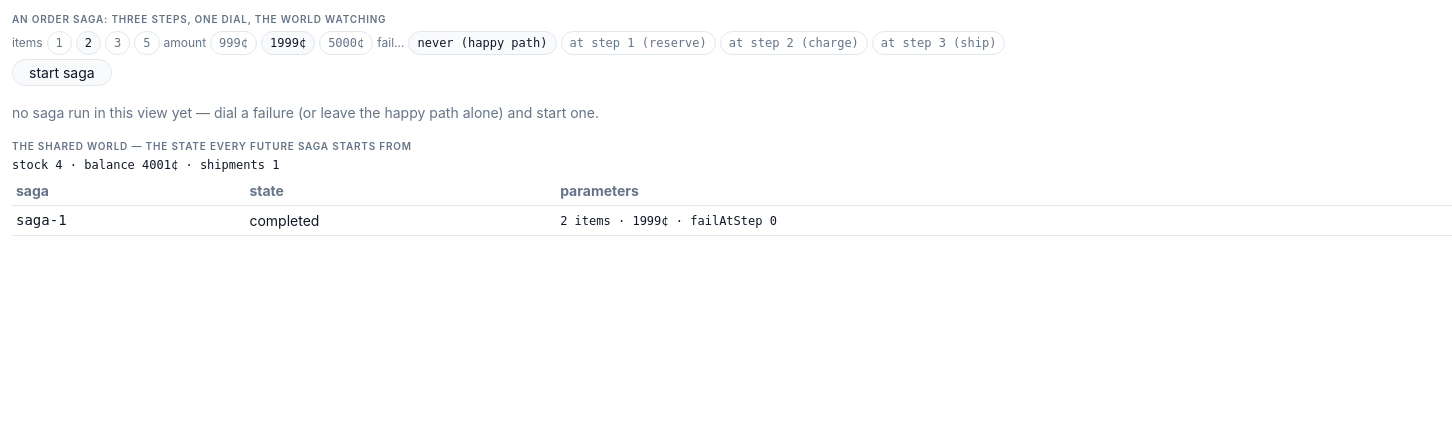
Test: SagaDemo › runs the happy path: three completed steps, no compensations, world moved
Expected: the text "stock 4 · balance 4001¢ · shipments 1" is shown, [12,158,279,172]
Click the button with test id "saga-run": (62, 72) [12,59,112,86]
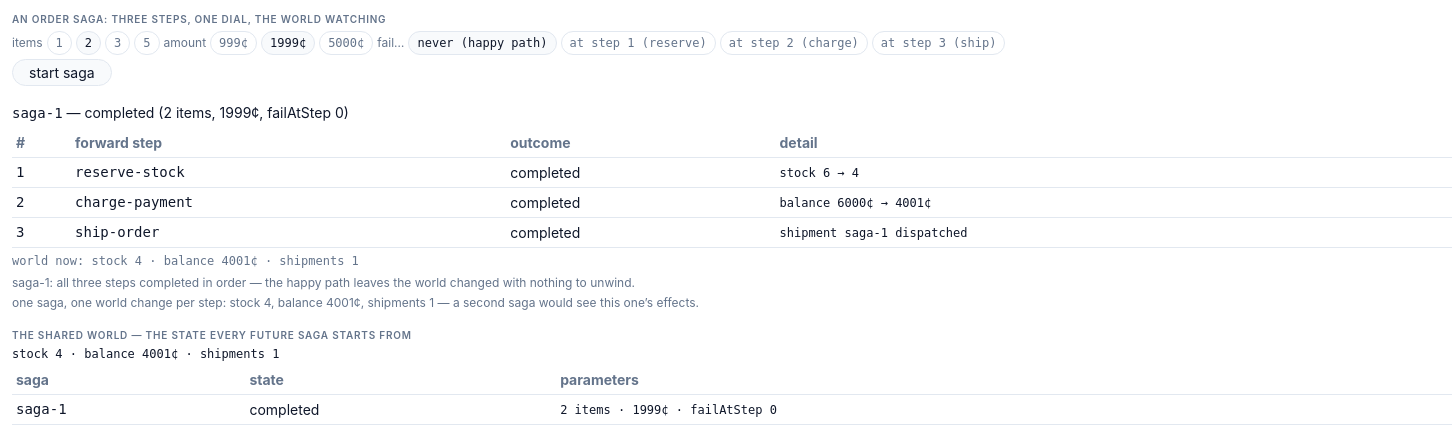
Now the element with test id "saga-report" shows "saga-1", box [12,105,63,121]
Now the element with test id "saga-report" shows "completed", box [84,104,154,121]
Now the row with test id "^saga-step-\\d$" shows "reserve-stock", box [75,164,185,180]
